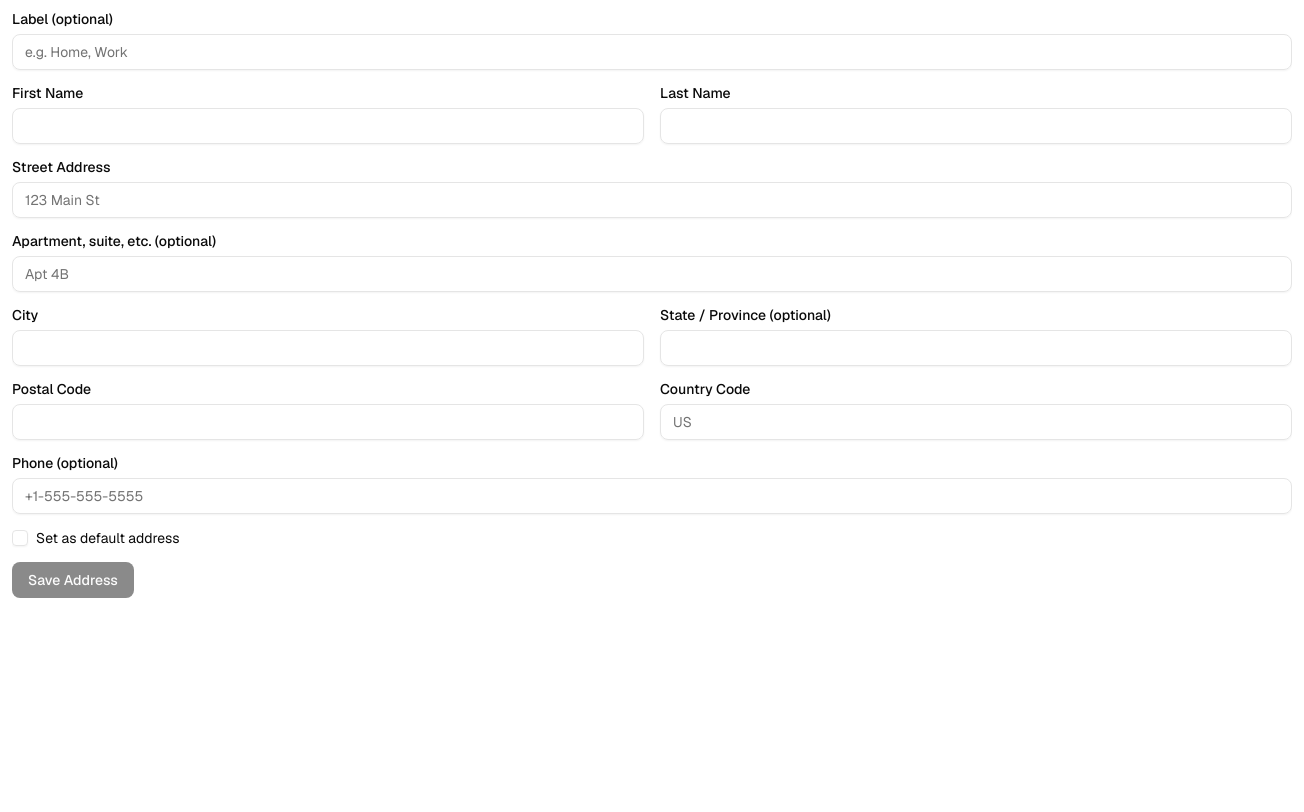
Test case: AddressForm › validation › should show error for streetLine1 on blur when empty
Click the field labelled "Street Address" at (652, 200), box x1=12 y1=182 x2=1292 y2=218
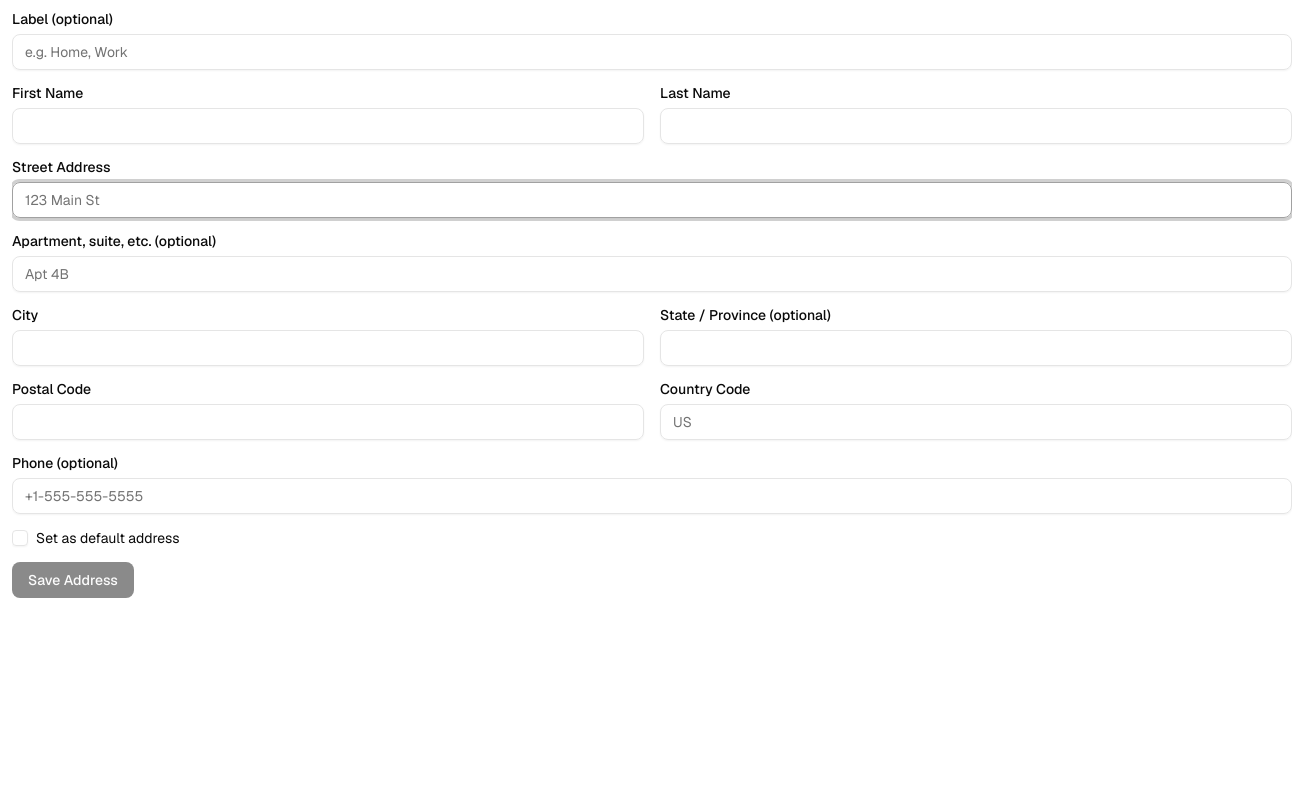
Press Tab
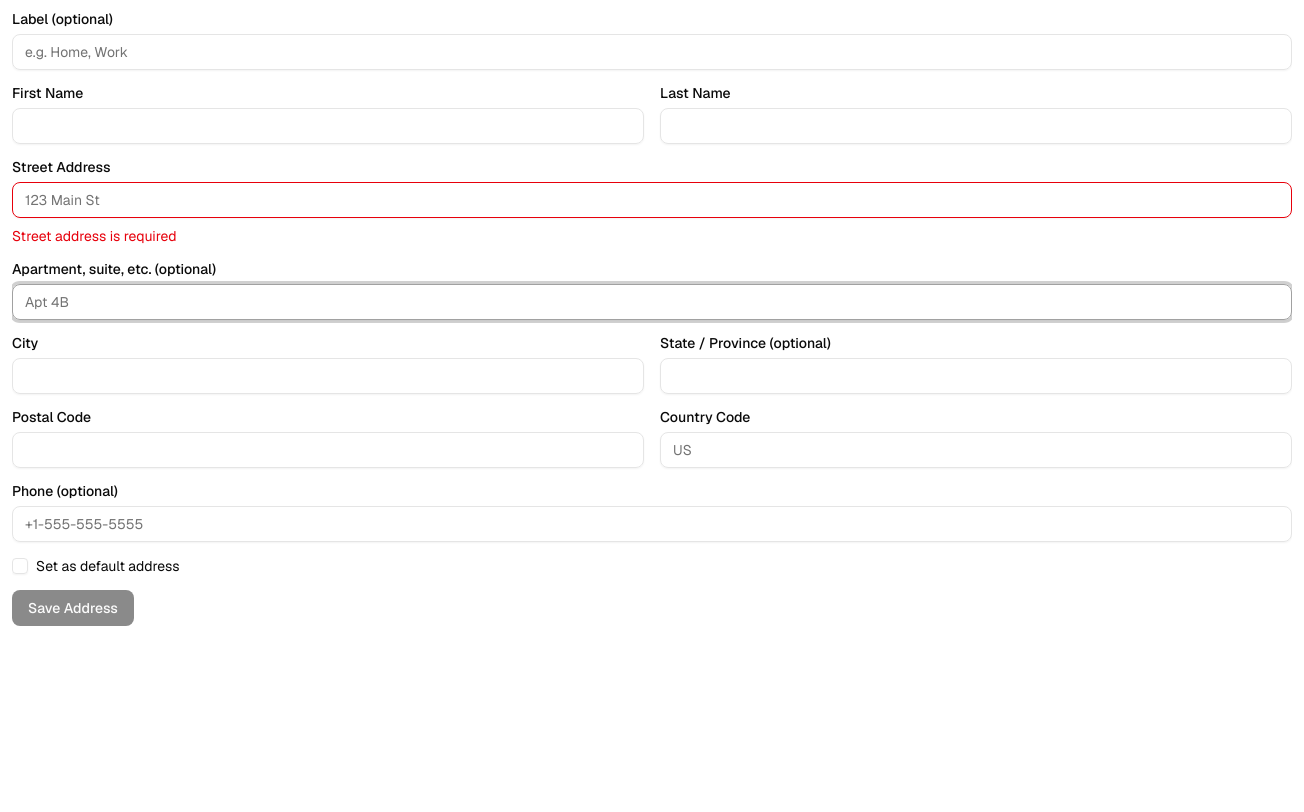
Expected: the text "Street address is required" is shown, x1=12 y1=227 x2=177 y2=245
